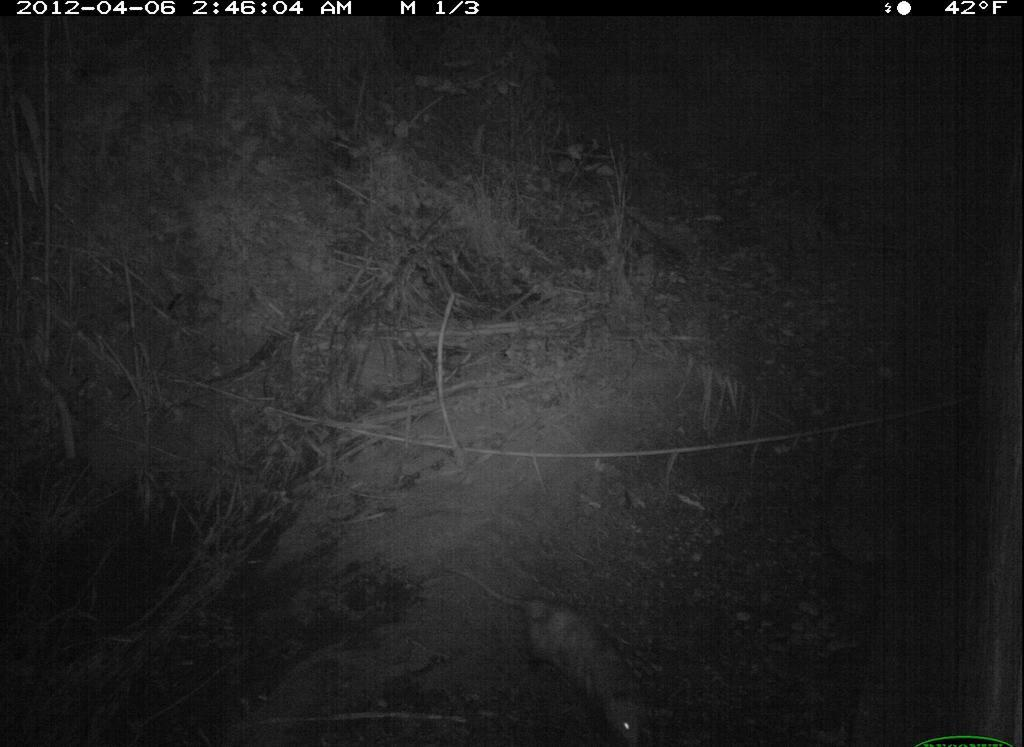opossum: (461, 532, 655, 745)
